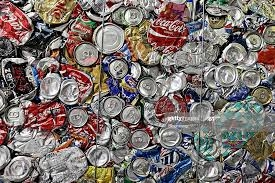metal: (1, 1, 40, 49), (147, 16, 188, 53), (92, 20, 128, 55), (1, 151, 40, 182), (1, 99, 31, 134), (70, 40, 101, 71), (216, 41, 252, 67), (82, 142, 116, 169), (103, 55, 133, 84), (212, 60, 241, 88), (56, 78, 83, 106), (36, 71, 61, 100), (97, 94, 123, 121), (238, 65, 264, 91), (248, 83, 274, 109), (109, 122, 135, 147), (65, 107, 90, 129)
